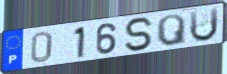0: (29, 30, 54, 65)
1: (72, 25, 87, 60)
6: (95, 22, 119, 55)
Q: (155, 13, 188, 47)
S: (123, 16, 156, 53)
U: (188, 6, 220, 44)
